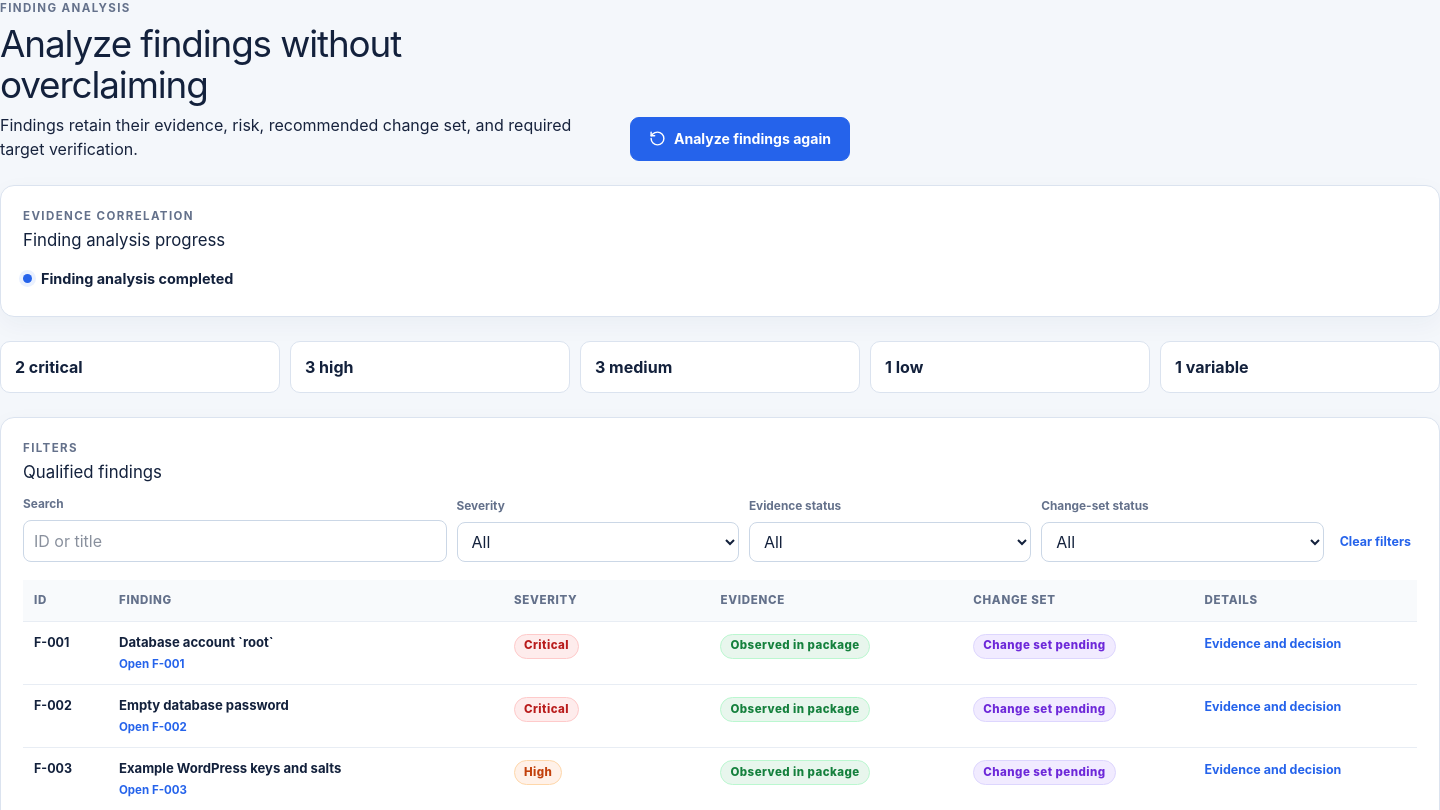
explains F-001 and F-006 in the evidence drawer
Click the button "Database account `root` Open F-001": (196, 653) [119,634,274,672]
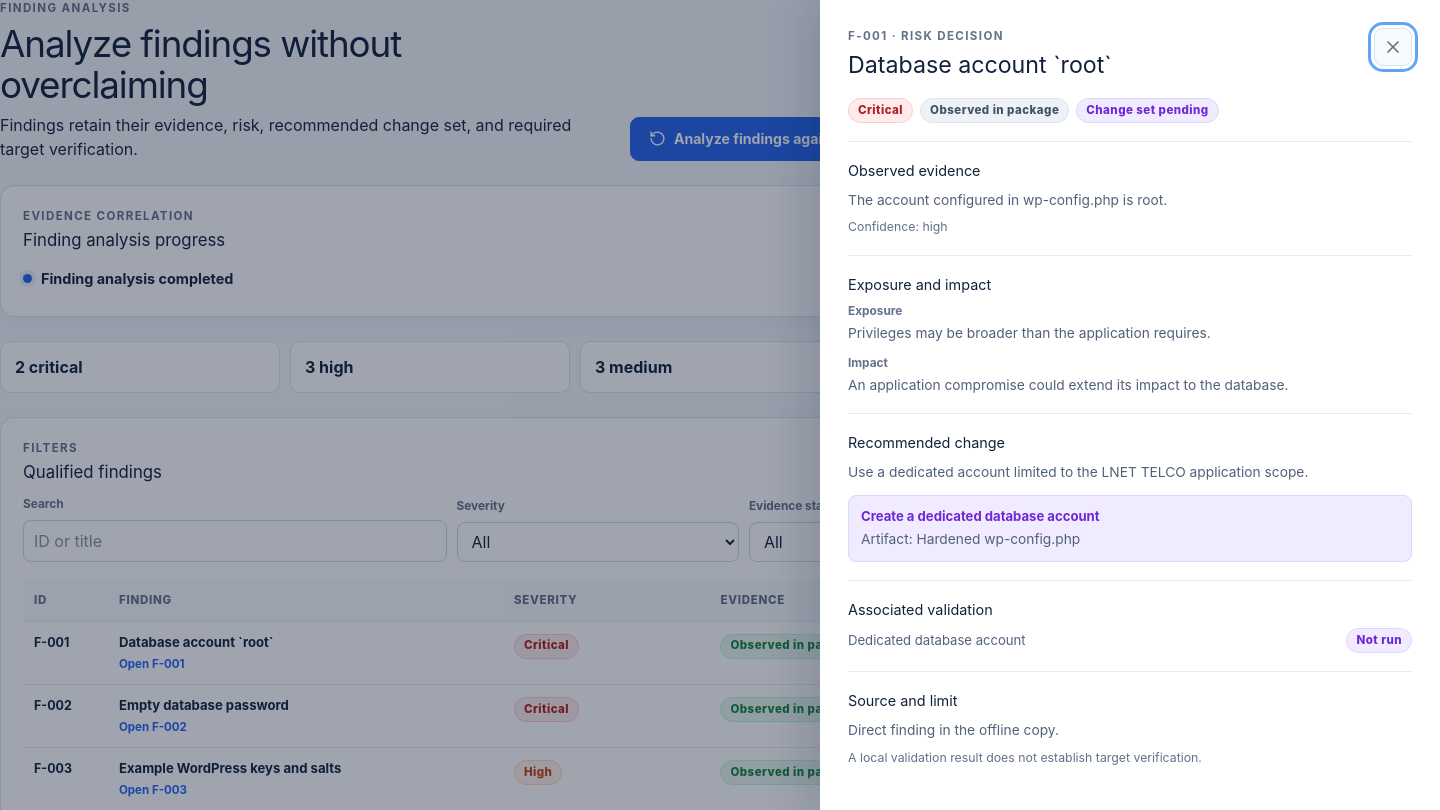
Now the dialog is shown, box [820,0,1439,809]
Now the text "Critical" is shown, box [848,98,913,123]
Now the text "Observed in package" is shown, box [920,98,1069,123]
Click the button named "Close": (1393, 47) [1374,28,1412,66]
(page scrolled)
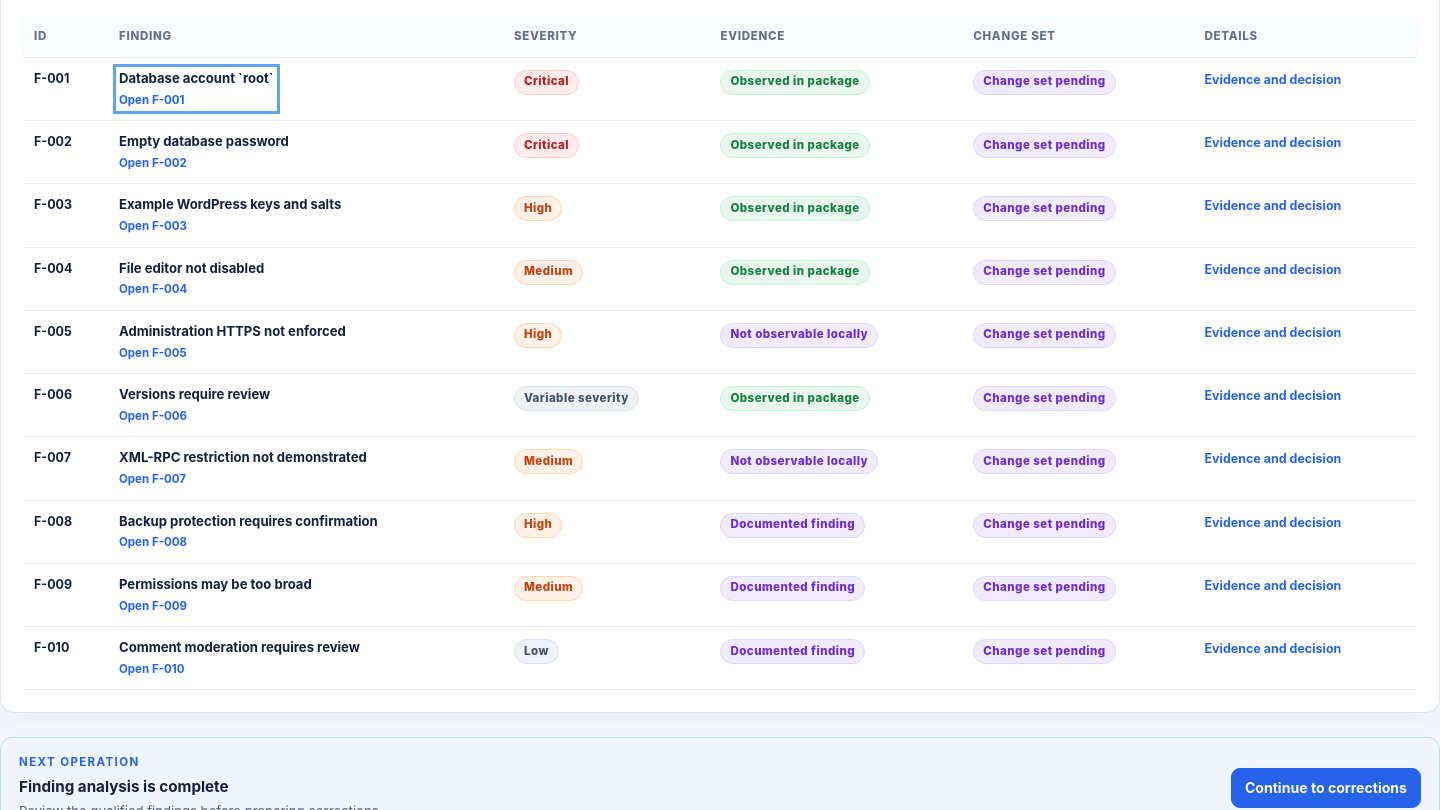
Click the button "Versions require review Open F-006": (195, 405) [119,386,270,424]
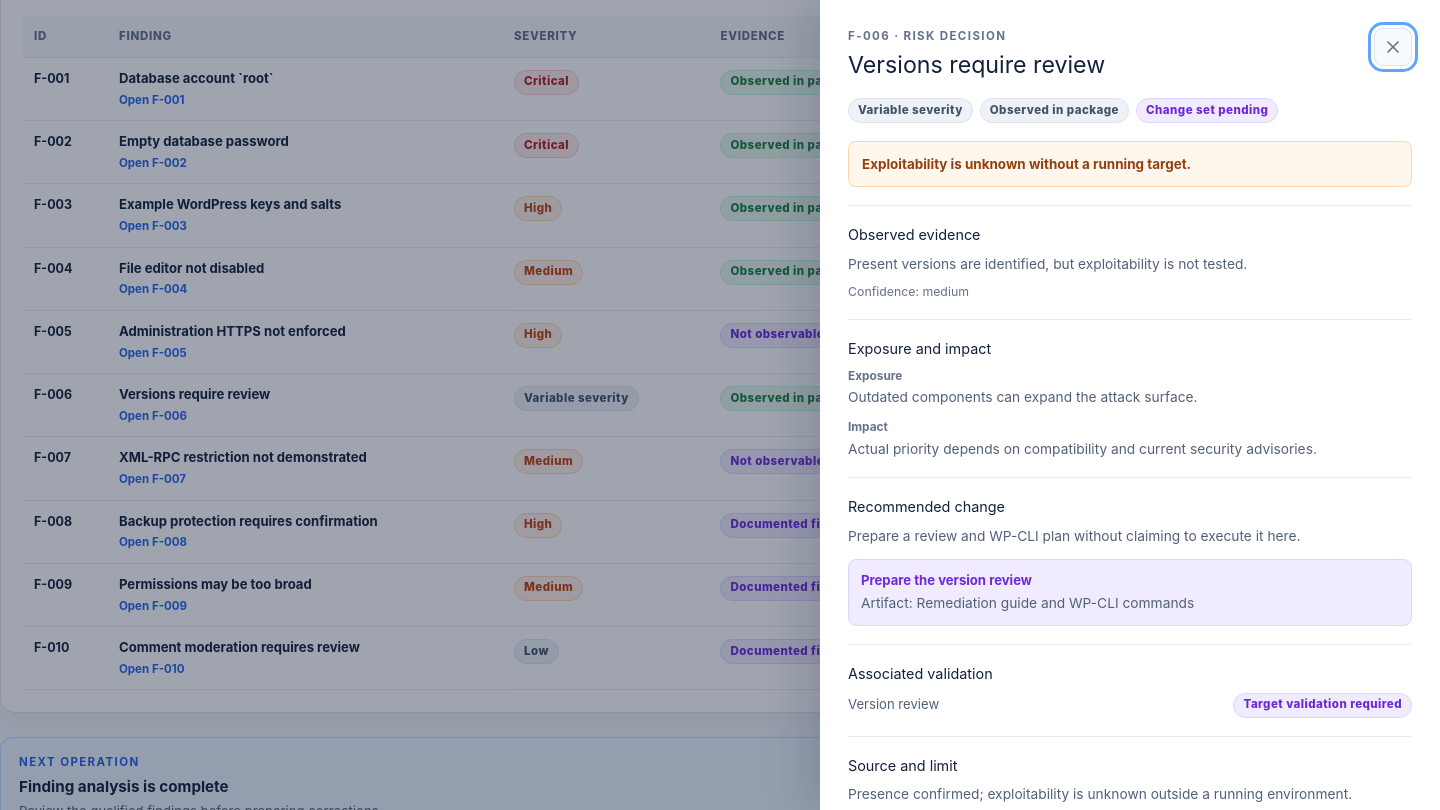
Now the dialog is shown, box [820,0,1439,809]
Now the text "Exploitability is unknown without a running target." is shown, box [848,141,1412,187]
